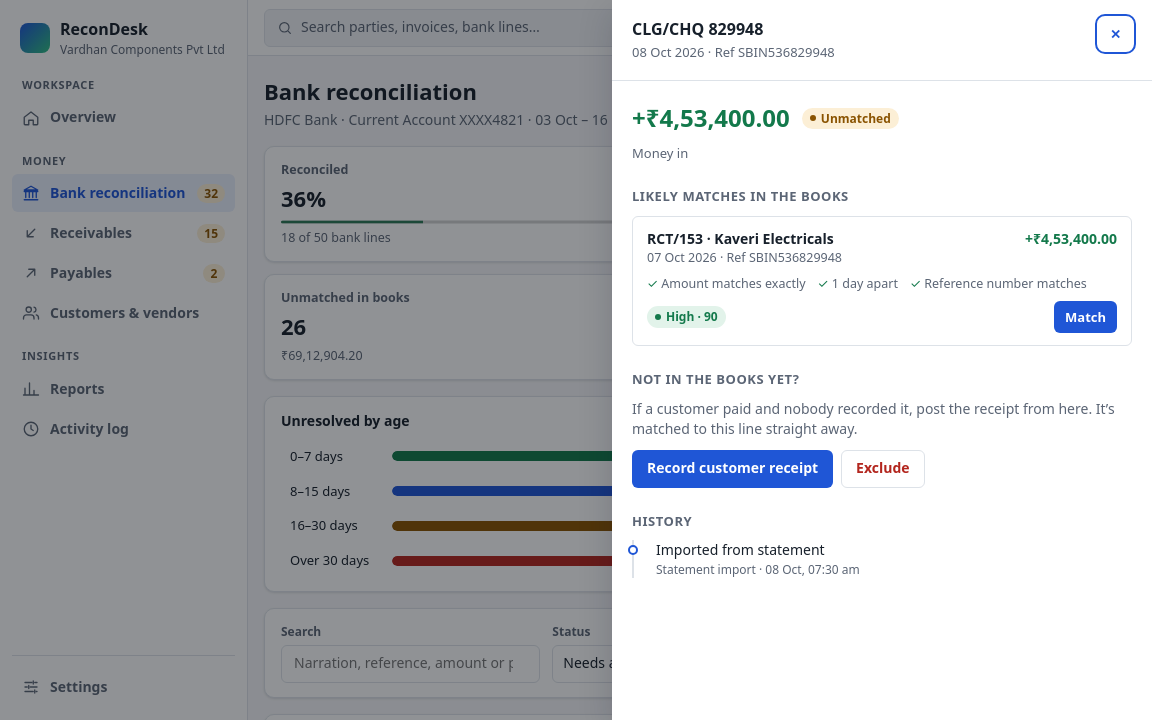
Test: Line drawer › requires a note when excluding for "Other"
The width and height of the screenshot is (1152, 720).
Click the button "Exclude". click: click(883, 468)
box: [841,450,925,488]
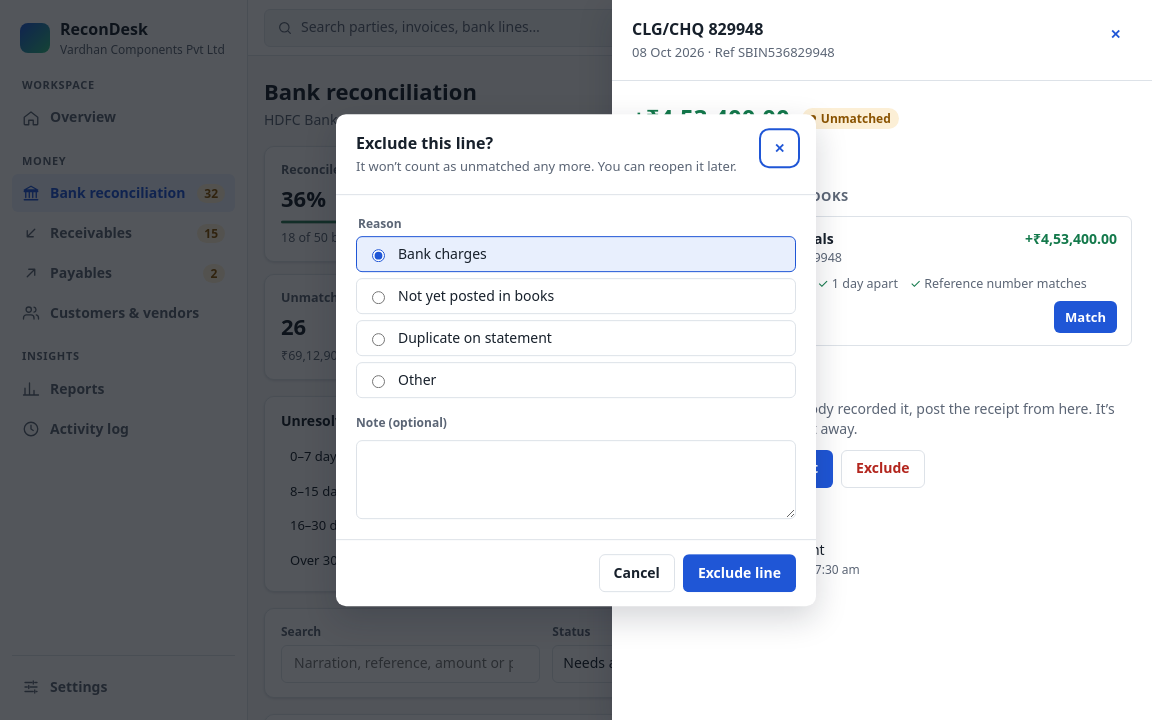
Click the radio button labelled "Other". click: click(378, 382)
box: [372,376,385,389]
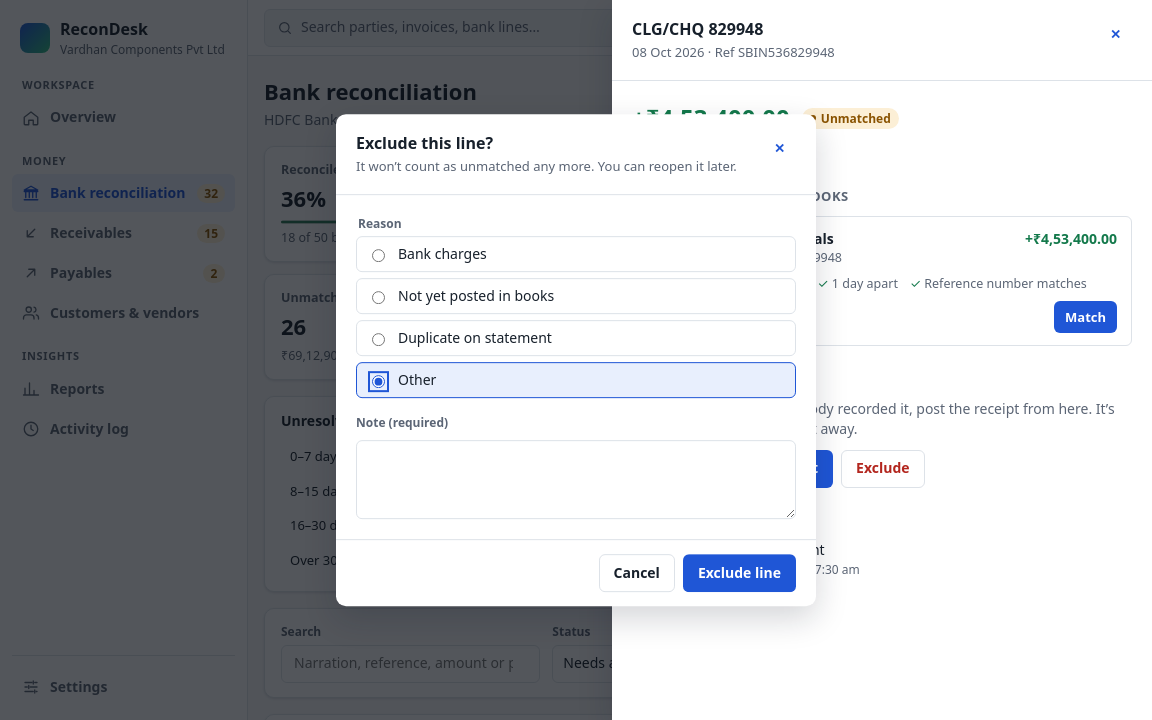
Click the button "Exclude line". click: click(739, 573)
box: [683,554,796,592]
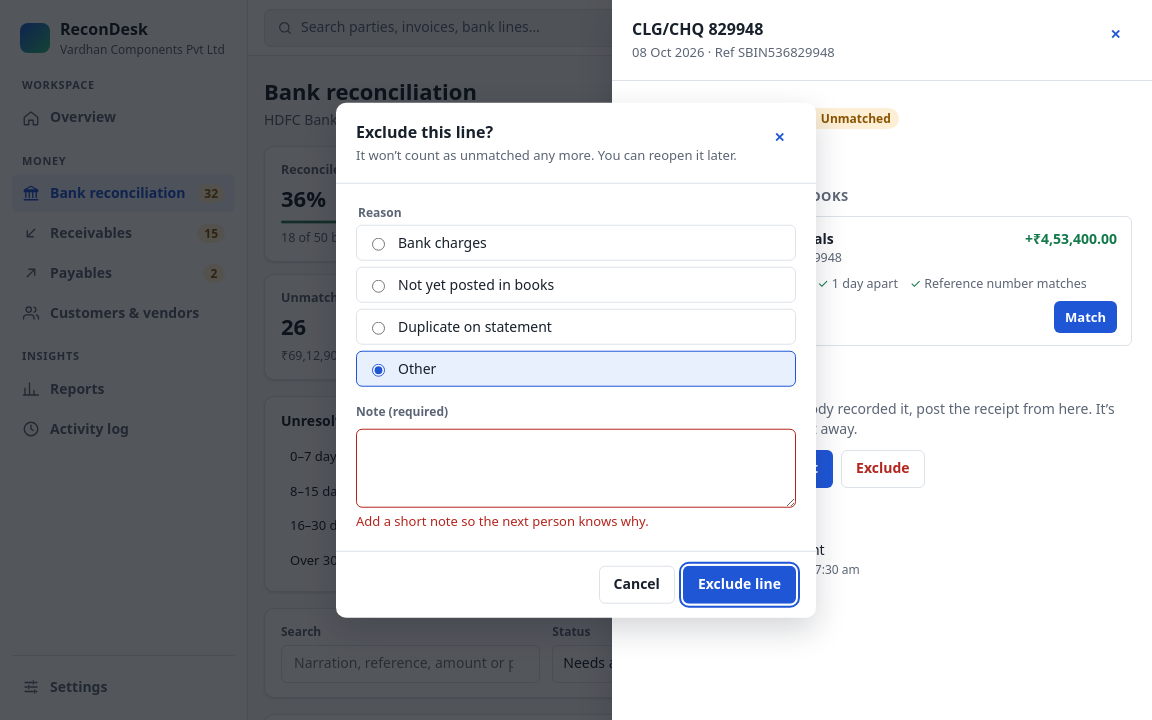
Now the message shows "Add a short note", box [356,511,649,529]
Type "Director loan, not ours" into the text box labelled "Note (required)". click: (576, 468)
box: [356,428,796,507]
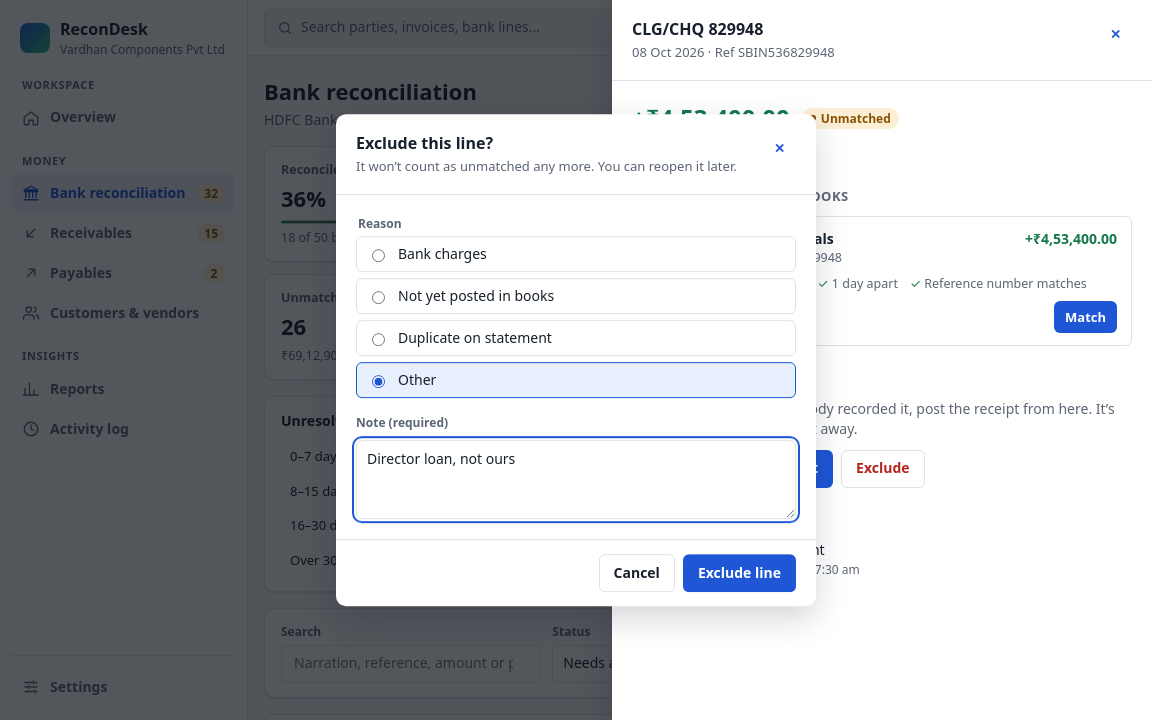
Click the button "Exclude line". click: click(739, 573)
box: [683,554,796,592]
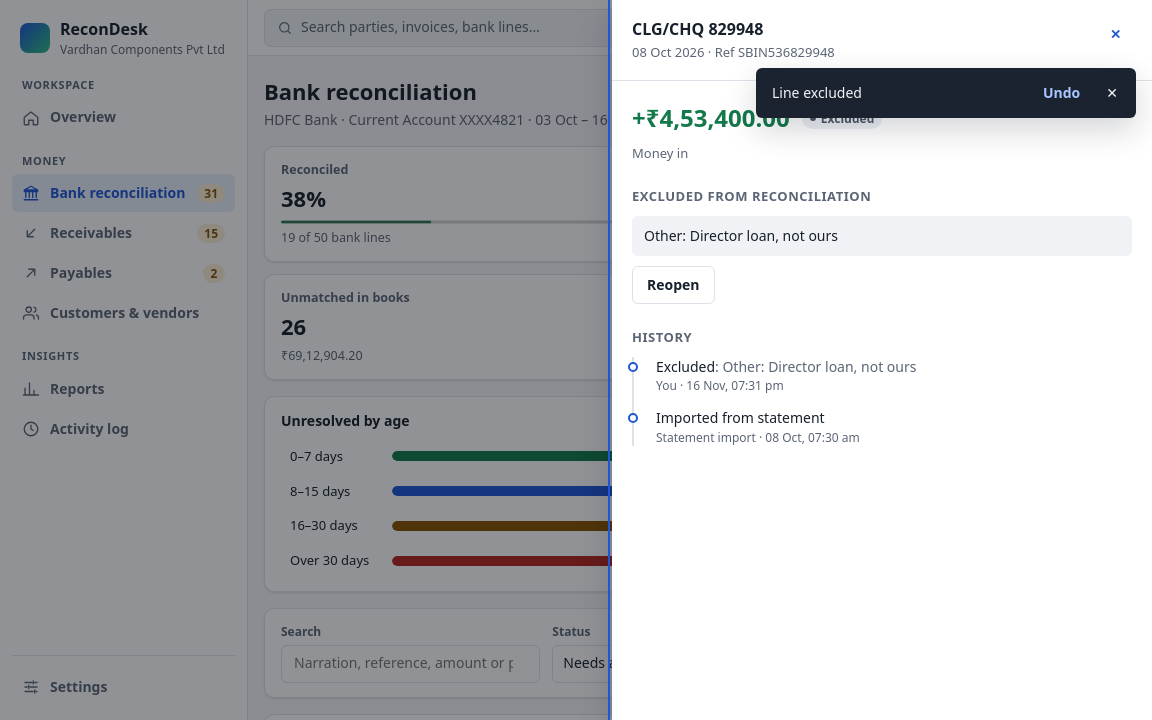
Now the text "Other: Director loan, not ours" is shown, box [632,216,1132,256]
